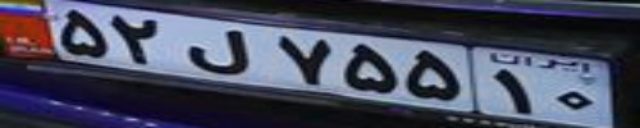0: (552, 88, 599, 111)
1: (490, 66, 532, 114)
2: (109, 14, 160, 65)
5: (341, 41, 398, 93), (405, 49, 461, 101), (56, 8, 108, 58)
7: (277, 35, 333, 86)
lam: (187, 28, 251, 75)
